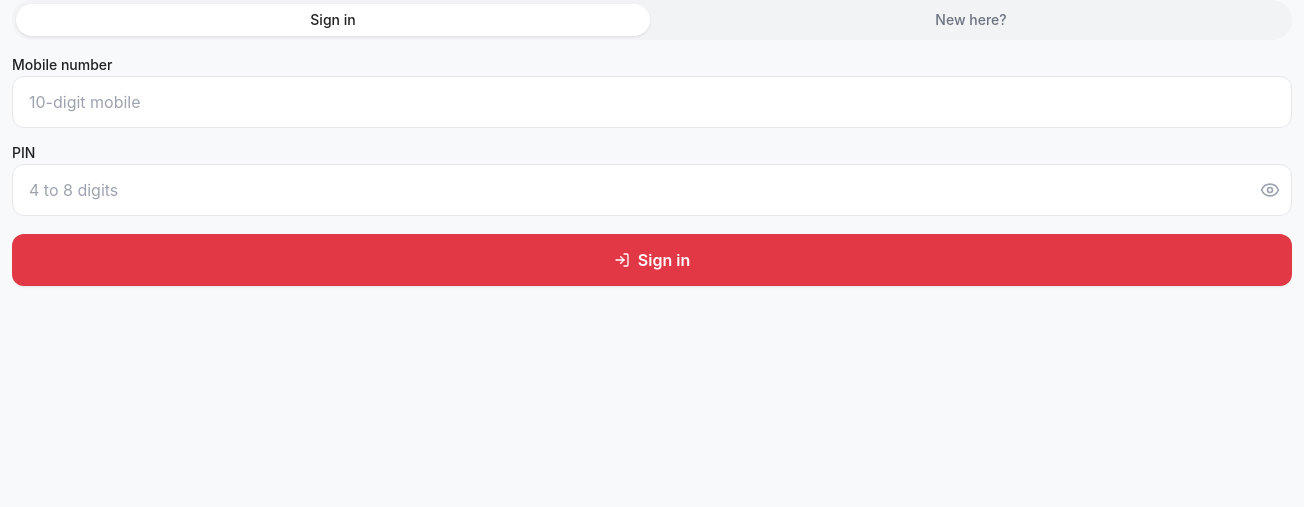
Test case: CustomerMobileAuth › never creates an account from two PINs that do not match
Click the tab "New here?" at (971, 20), box left=654, top=4, right=1288, bottom=36
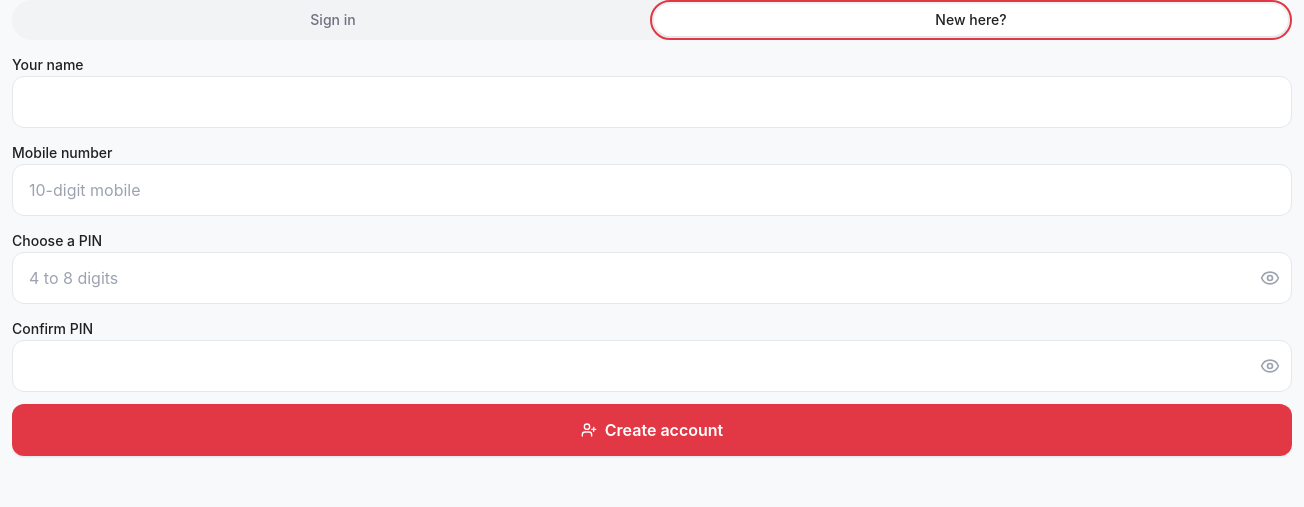
Type "Asha" into the field labelled "Your name" at (652, 102), box left=12, top=76, right=1292, bottom=128
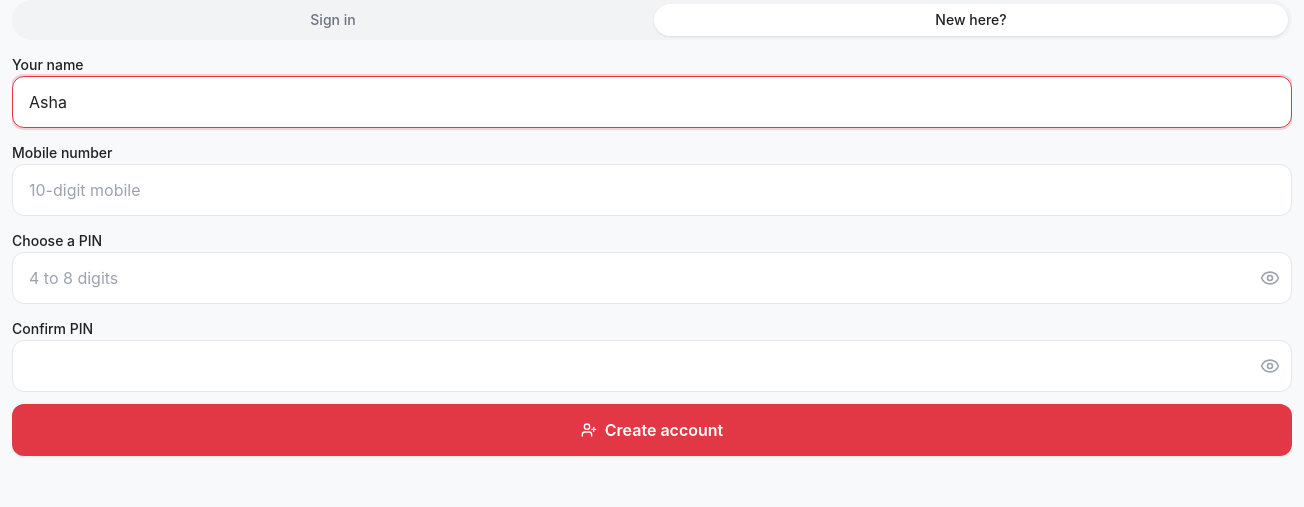
Type "9876543210" into the field labelled "Mobile number" at (652, 190), box left=12, top=164, right=1292, bottom=216
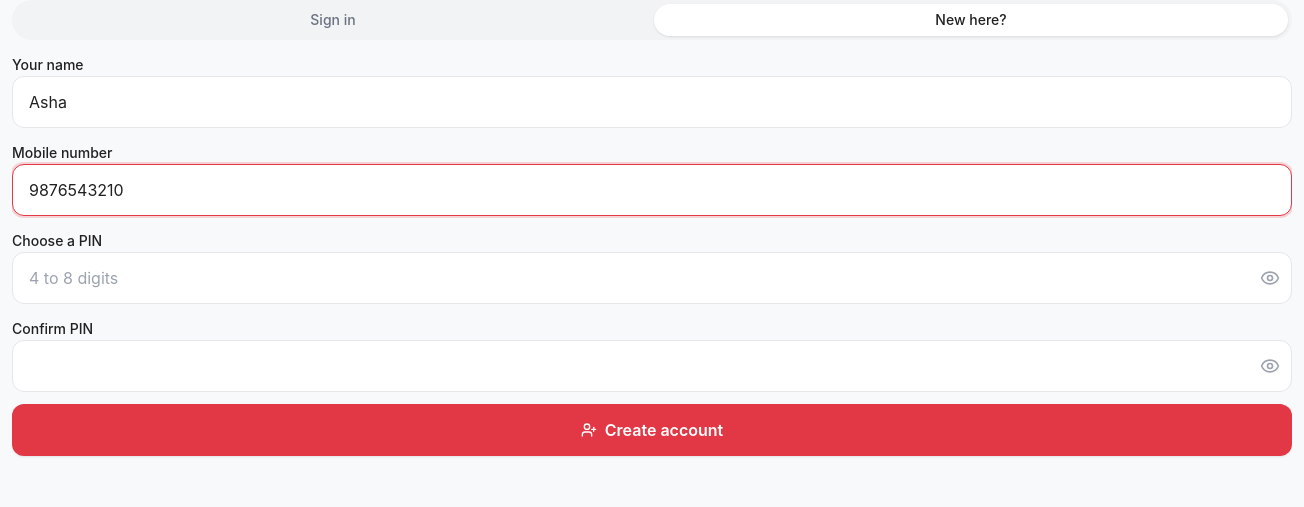
Type "4816" into the password field labelled "Choose a PIN" at (652, 278), box left=12, top=252, right=1292, bottom=304
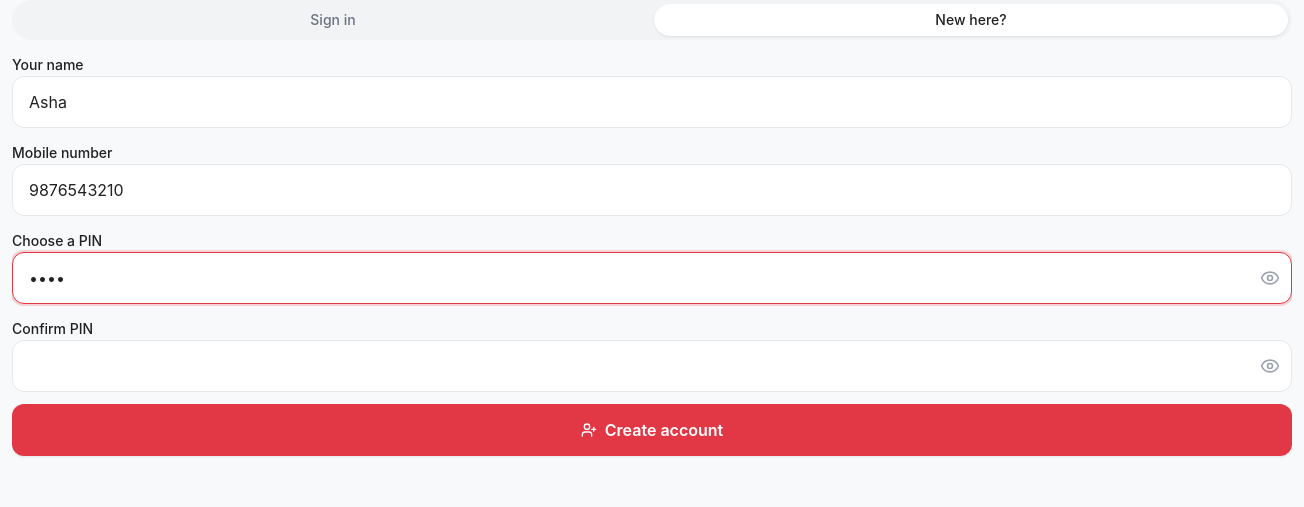
Type "4817" into the password field labelled "Confirm PIN" at (652, 366), box left=12, top=340, right=1292, bottom=392
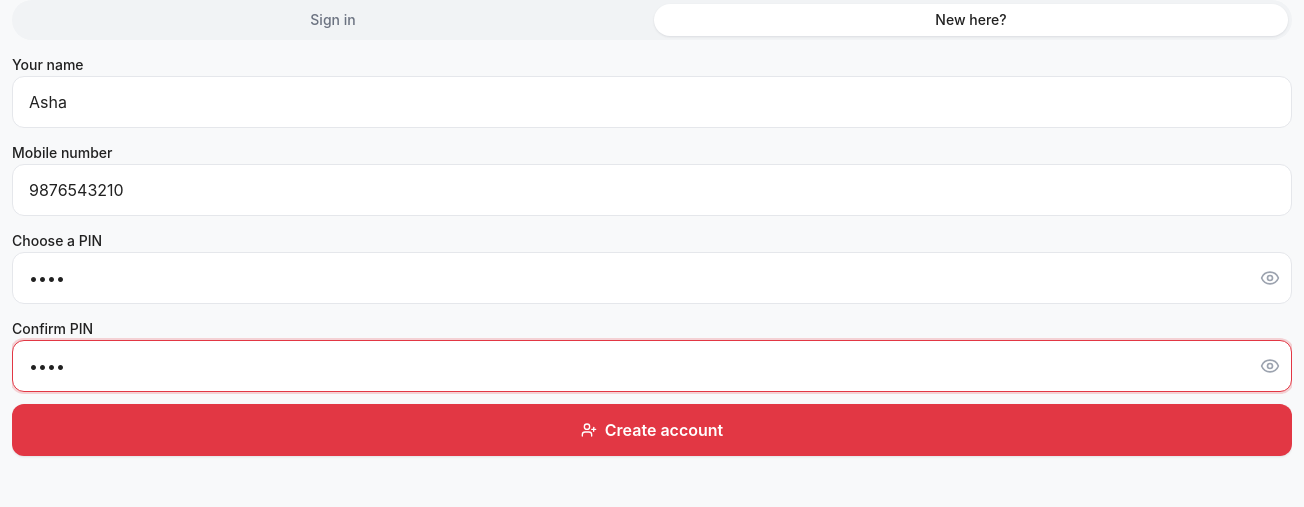
Click the button "Create account" at (652, 430), box left=12, top=404, right=1292, bottom=456
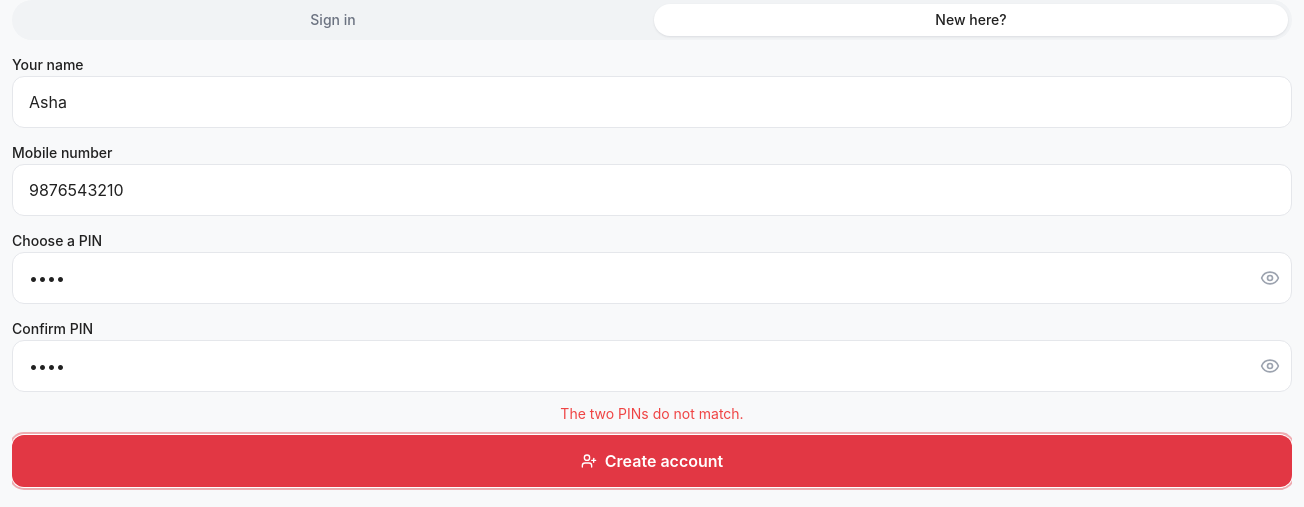
expect the text "The two PINs do not match." is shown: met, box left=560, top=405, right=744, bottom=422
